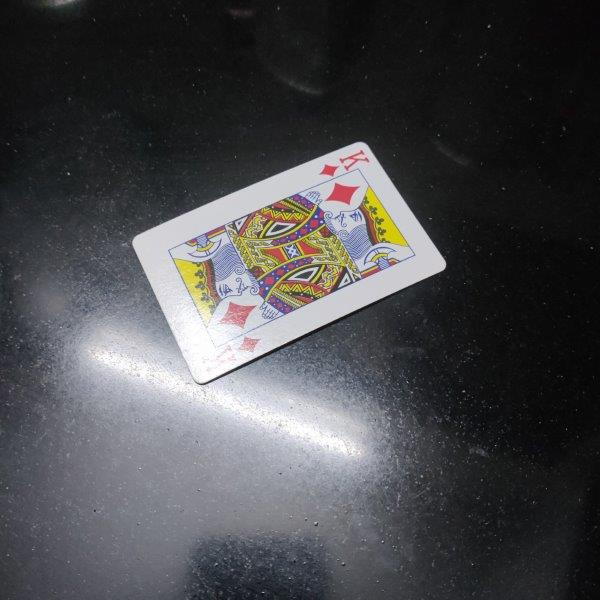King of Diamonds: (132, 141, 448, 384)
